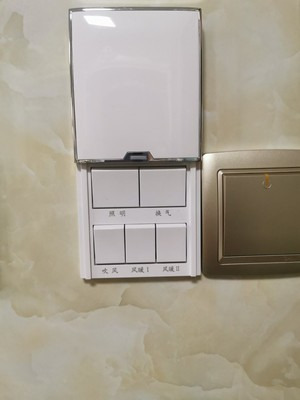switch: (221, 172, 300, 258), (142, 172, 187, 208), (90, 172, 137, 205), (126, 225, 156, 265), (95, 229, 126, 262), (162, 227, 185, 265)
